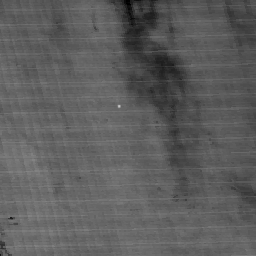Target: (114, 102, 123, 109)
